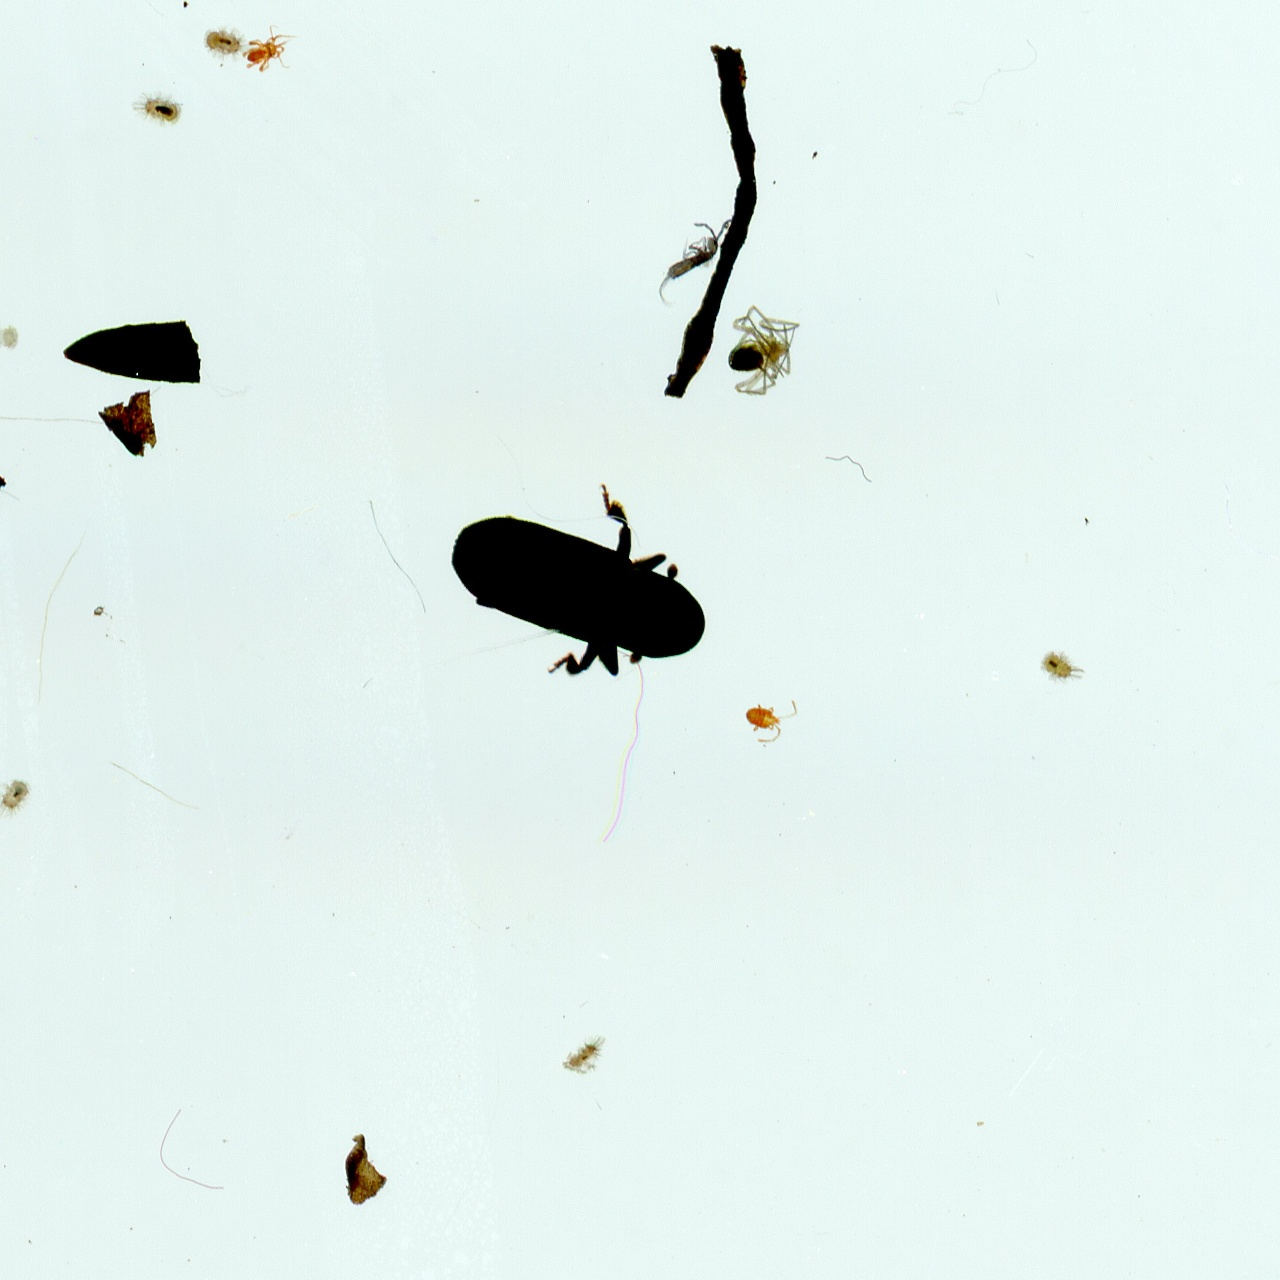arthropod: (450, 483, 706, 676), (656, 216, 733, 306), (726, 305, 799, 394), (743, 697, 801, 747), (243, 22, 293, 75), (556, 1034, 611, 1076), (134, 89, 185, 129), (1039, 648, 1085, 685), (200, 23, 243, 59), (0, 776, 28, 810), (0, 318, 19, 353)
